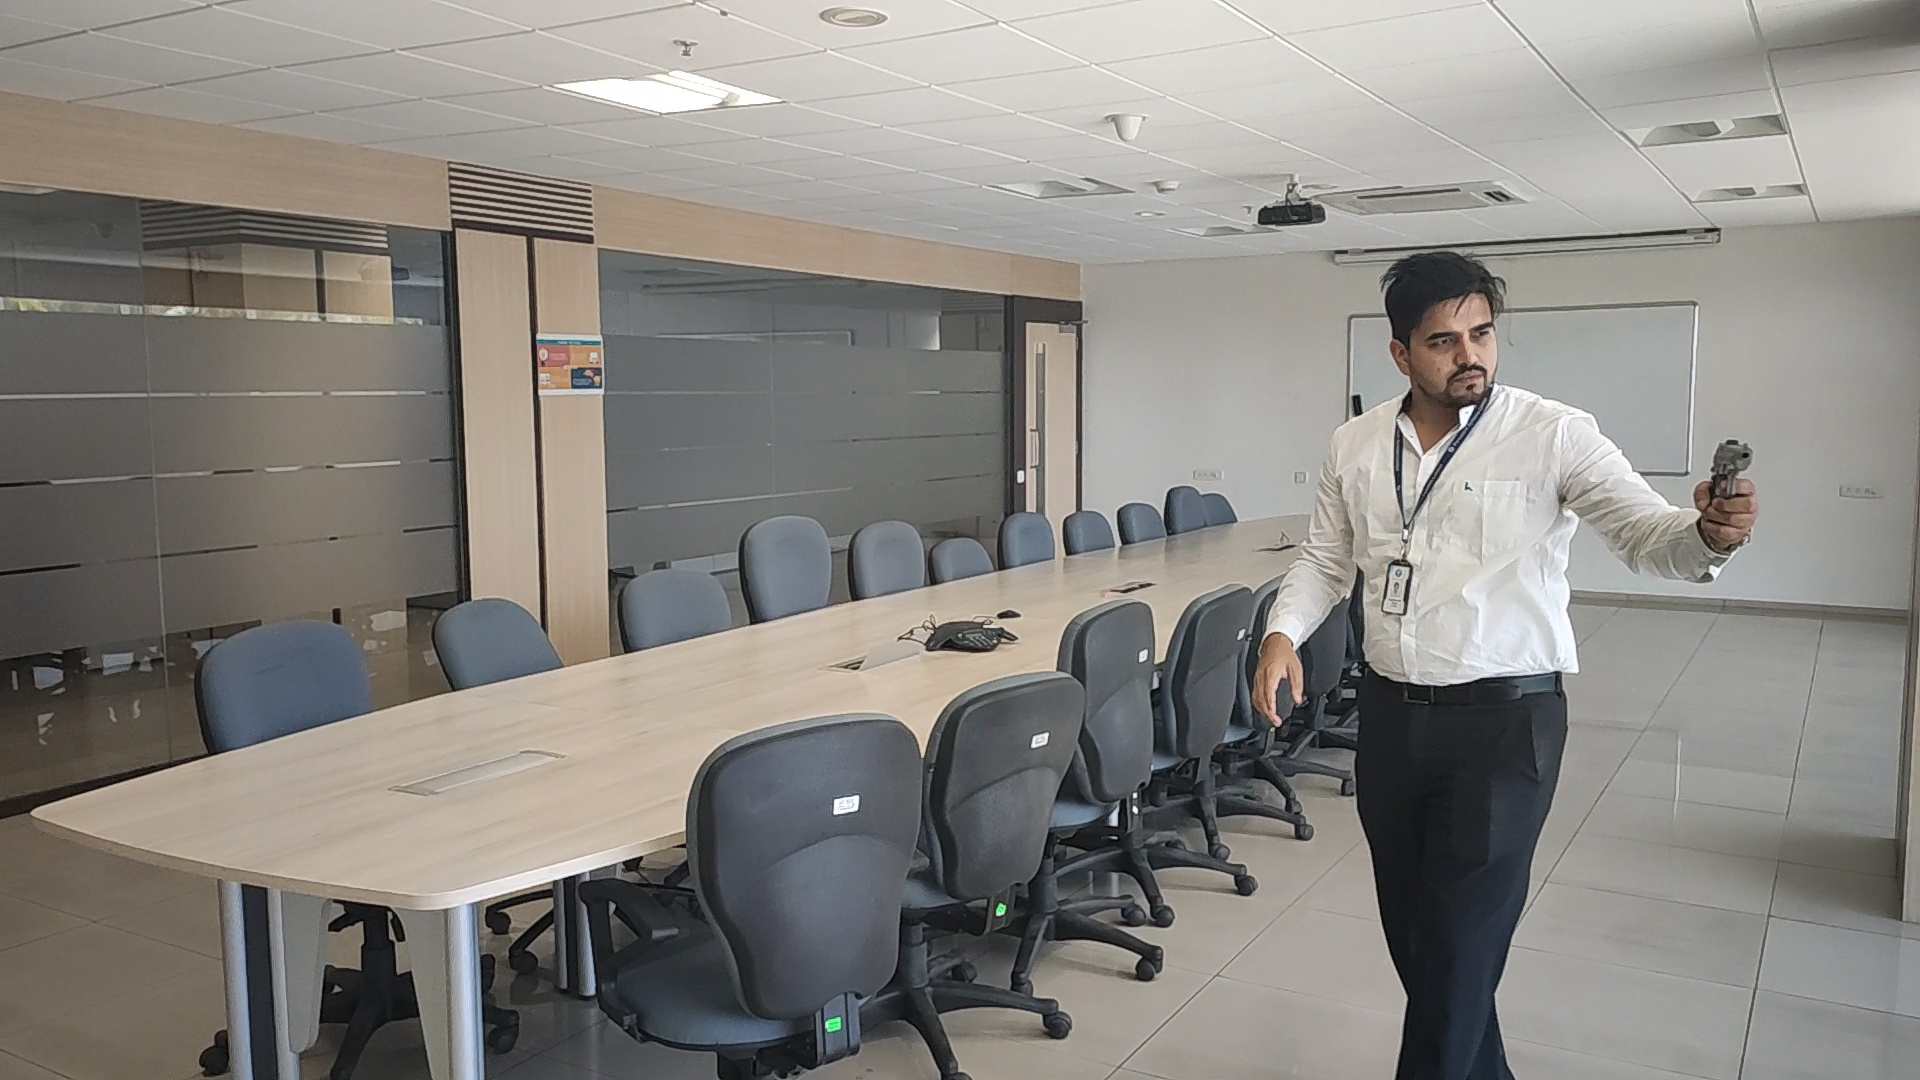gun: (1706, 436, 1756, 477)
